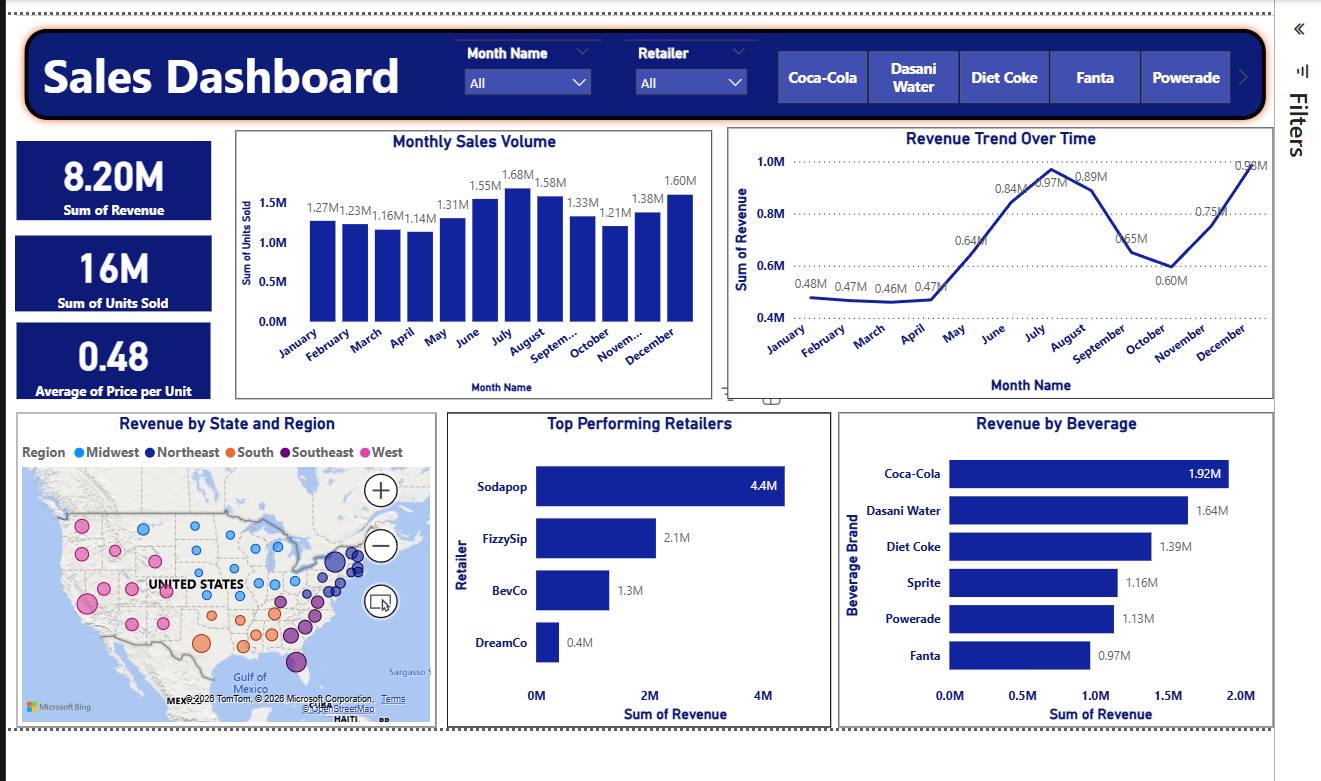

What the dashboard file says about the page in this screenshot:
{"tool":"powerbi","page":{"name":"Page 1","canvas":[1280,720],"ordinal":0},"visuals":[{"type":"shape","box":[10,0,1270,114],"z":0},{"type":"card","fields":{"Values":["Sum(Data.Revenue)"]},"box":[10,126.7,196.7,80],"z":1000},{"type":"card","fields":{"Values":["Avg(Data.Price per Unit)"]},"box":[10,310,195.8,77.5],"z":2000},{"type":"card","fields":{"Values":["Sum(Data.Units Sold)"]},"box":[8.3,223.3,198.3,76.7],"z":3000},{"type":"clusteredColumnChart","title":"Monthly Sales Volume","fields":{"Category":["Data.Month Name"],"Y":["Sum(Data.Units Sold)"]},"box":[231.7,116.6,481.5,271],"z":4000},{"type":"map","title":"Revenue by State and Region","fields":{"Category":["Data.State"],"Size":["Sum(Data.Revenue)"],"Series":["Data.Region"]},"box":[10.6,401.5,424.2,318.2],"z":5000},{"type":"slicer","fields":{"Values":["Data.Retailer"]},"box":[625,20,133.3,71.7],"z":6000},{"type":"slicer","fields":{"Values":["Data.Beverage Brand"]},"box":[758.6,34.8,496.7,56],"z":7000},{"type":"slicer","fields":{"Values":["Data.Month Name"]},"box":[453.3,20,148.3,71.7],"z":8000},{"type":"clusteredBarChart","title":"Top Performing Retailers","fields":{"Category":["Data.Retailer"],"Y":["Sum(Data.Revenue)"]},"box":[445.5,401.5,387.9,318.2],"z":9000},{"type":"lineChart","title":"Revenue Trend Over Time","fields":{"Category":["Data.Month Name"],"Y":["Sum(Data.Revenue)"]},"box":[728.8,113.6,551.5,274.2],"z":10000},{"type":"clusteredBarChart","title":"Revenue by Beverage","fields":{"Category":["Data.Beverage Brand"],"Y":["Sum(Data.Revenue)"]},"box":[840.9,401.5,439.4,318.2],"z":11000}]}

Visuals, with their boxes in screenshot pixels (x1, y1, x2, y2):
shape: {"left": 3, "top": 0, "right": 1296, "bottom": 116}
card - Sum(Data.Revenue): {"left": 3, "top": 129, "right": 203, "bottom": 210}
card - Avg(Data.Price per Unit): {"left": 3, "top": 316, "right": 203, "bottom": 394}
card - Sum(Data.Units Sold): {"left": 2, "top": 227, "right": 203, "bottom": 305}
"Monthly Sales Volume" clusteredColumnChart: {"left": 229, "top": 119, "right": 719, "bottom": 394}
"Revenue by State and Region" map: {"left": 4, "top": 409, "right": 436, "bottom": 732}
slicer - Data.Retailer: {"left": 629, "top": 20, "right": 765, "bottom": 93}
slicer - Data.Beverage Brand: {"left": 765, "top": 35, "right": 1271, "bottom": 92}
slicer - Data.Month Name: {"left": 454, "top": 20, "right": 605, "bottom": 93}
"Top Performing Retailers" clusteredBarChart: {"left": 447, "top": 409, "right": 841, "bottom": 732}
"Revenue Trend Over Time" lineChart: {"left": 735, "top": 116, "right": 1296, "bottom": 395}
"Revenue by Beverage" clusteredBarChart: {"left": 849, "top": 409, "right": 1296, "bottom": 732}
